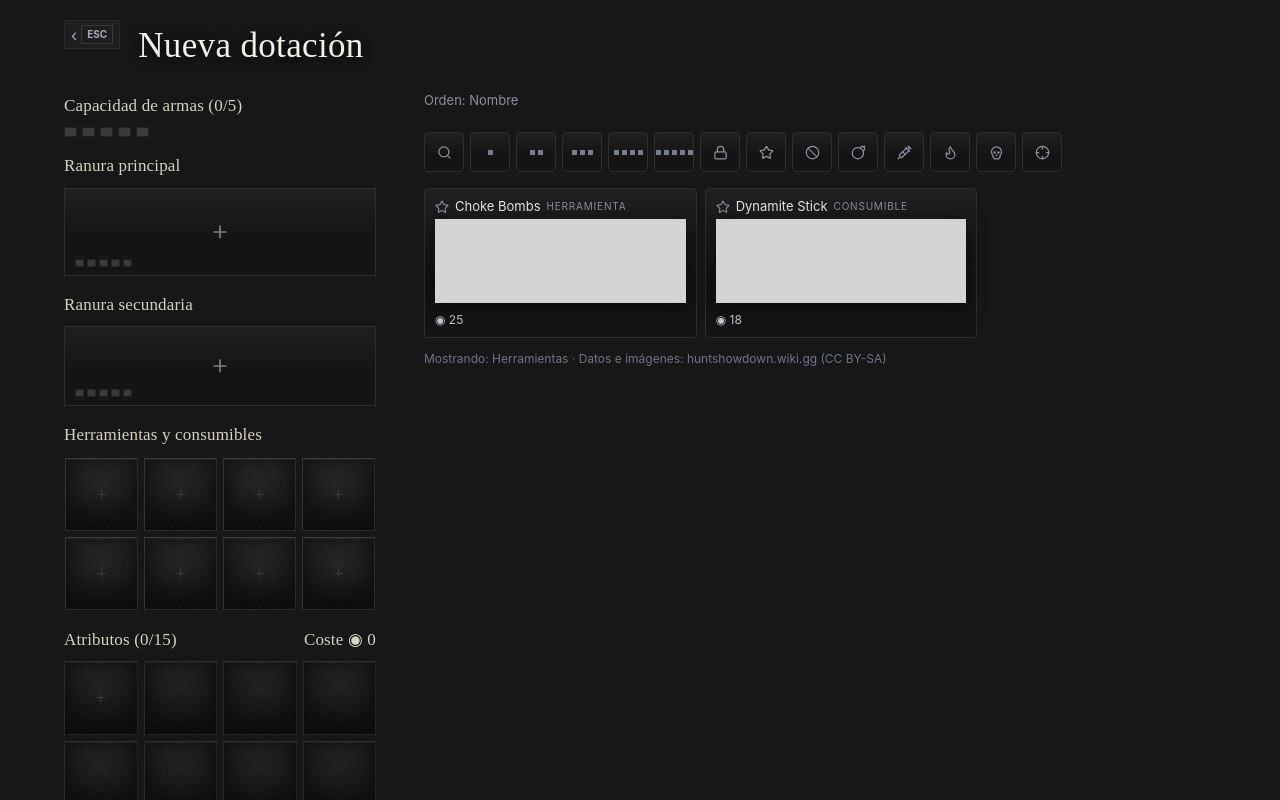
Scenario: DotacionEditor con herramientas › el filtro Explosivos deja la dinamita y oculta lo demás
Check: the text "Choke Bombs" is shown, box [455, 197, 541, 216]
Click the button named "Explosivos". click: (858, 152)
box: [838, 132, 878, 172]
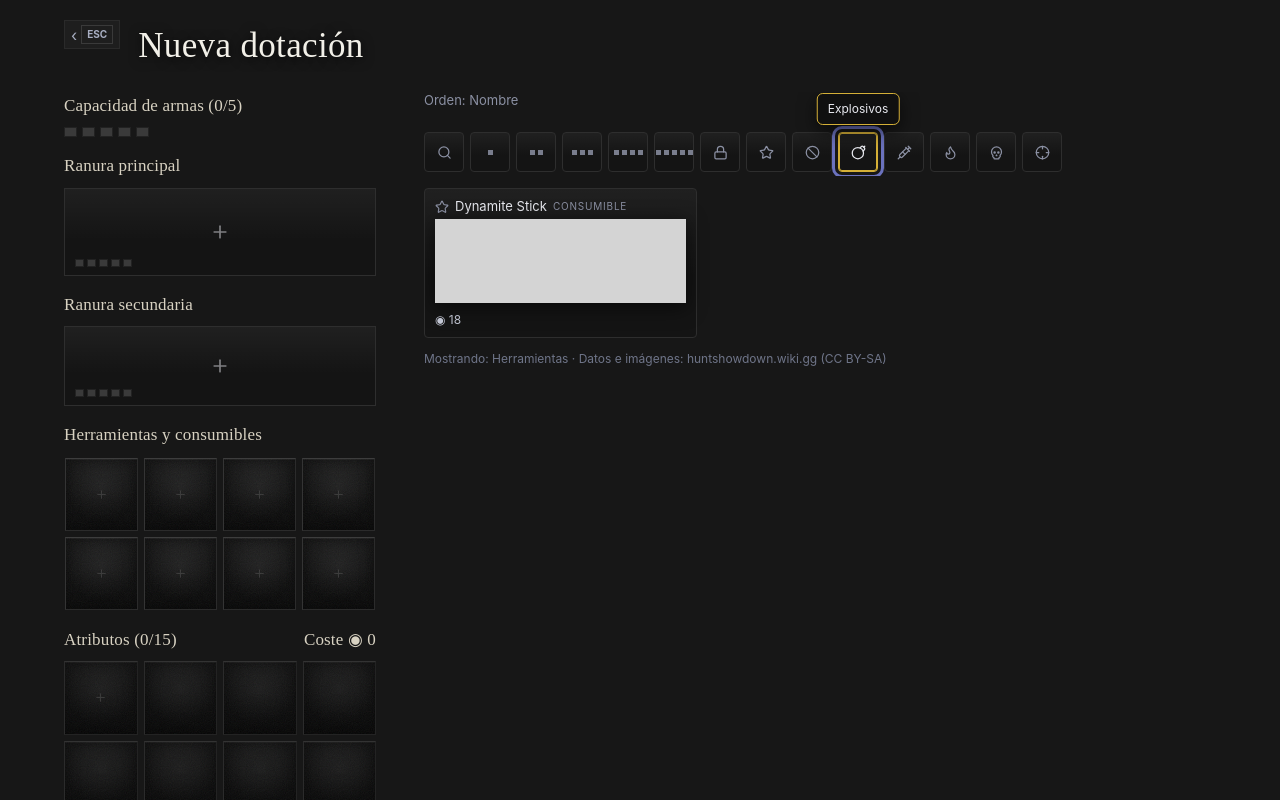
Check: the text "Dynamite Stick" is shown, box [455, 197, 547, 216]
Check: the button "Choke Bombs" is gone
